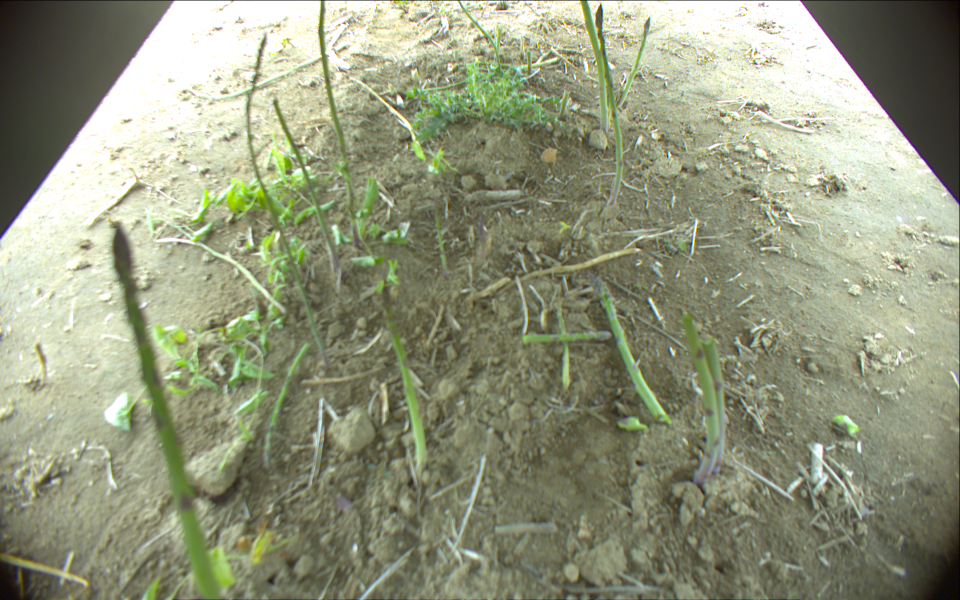aspa: (112, 222, 220, 600), (245, 30, 329, 369), (272, 100, 339, 284), (315, 1, 360, 250), (596, 275, 668, 427), (149, 236, 284, 313), (381, 284, 427, 472), (187, 53, 332, 105), (683, 311, 720, 495), (595, 3, 627, 208), (263, 344, 310, 470), (348, 75, 417, 148), (579, 1, 609, 133), (458, 1, 505, 79), (699, 339, 723, 480), (617, 18, 651, 111), (521, 329, 613, 345), (513, 56, 561, 71), (495, 27, 502, 65), (525, 51, 533, 80)
